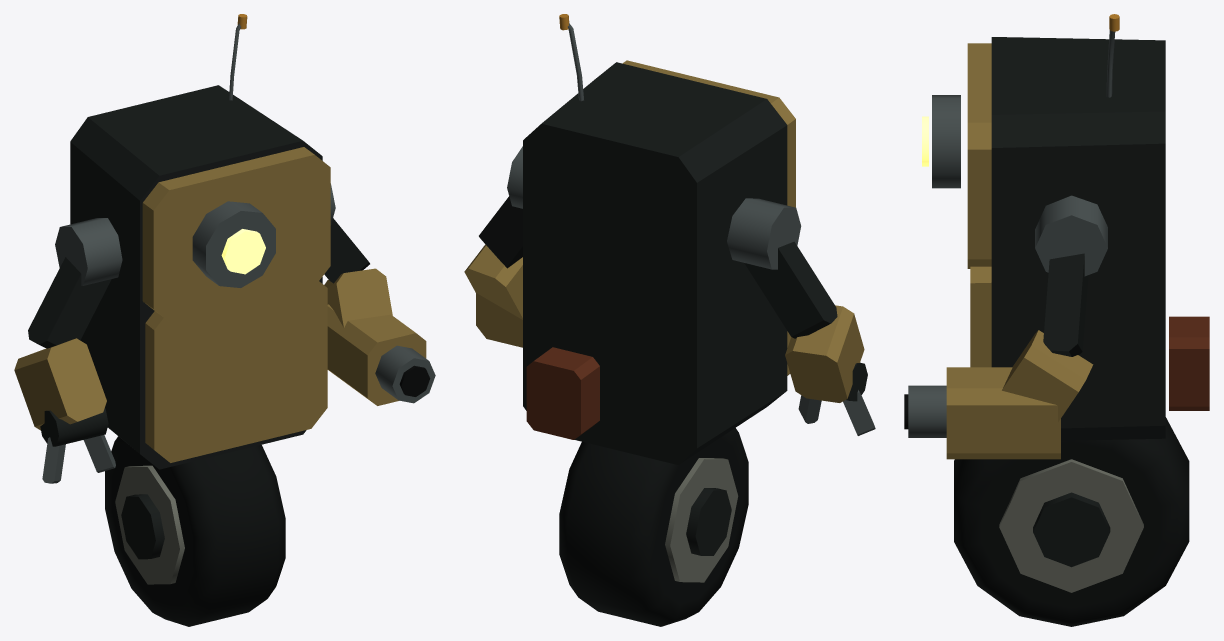
The model's file is KLONKBOT.far.glb.
3 renders of one model, left to right at view 1: azimuth 30°, elevation 25°; view 2: azimuth 150°, elevation 25°; view 3: azimuth 270°, elevation 25°, orthographic. The views are drawn at different scales.
Parts seen in each view (by area): view 1: body_geometry, wheel_geometry, armL_geometry, armR_geometry; view 2: body_geometry, wheel_geometry, armL_geometry, armR_geometry; view 3: body_geometry, wheel_geometry, armR_geometry.
Boxes of the visible parts, box(x1,y1,x2,y2) form: body_geometry: box(70, 14, 330, 469); wheel_geometry: box(105, 436, 285, 626); armL_geometry: box(14, 218, 122, 483); armR_geometry: box(324, 183, 435, 405); body_geometry: box(523, 14, 795, 464); wheel_geometry: box(559, 428, 748, 626); armL_geometry: box(727, 198, 875, 435); armR_geometry: box(464, 146, 522, 347); body_geometry: box(922, 14, 1209, 440); wheel_geometry: box(954, 417, 1189, 626); armR_geometry: box(904, 195, 1107, 459).
Bounding box in the file's own units: 0.7979 × 1.2 × 0.5265.
2 materials, 1 textured.
